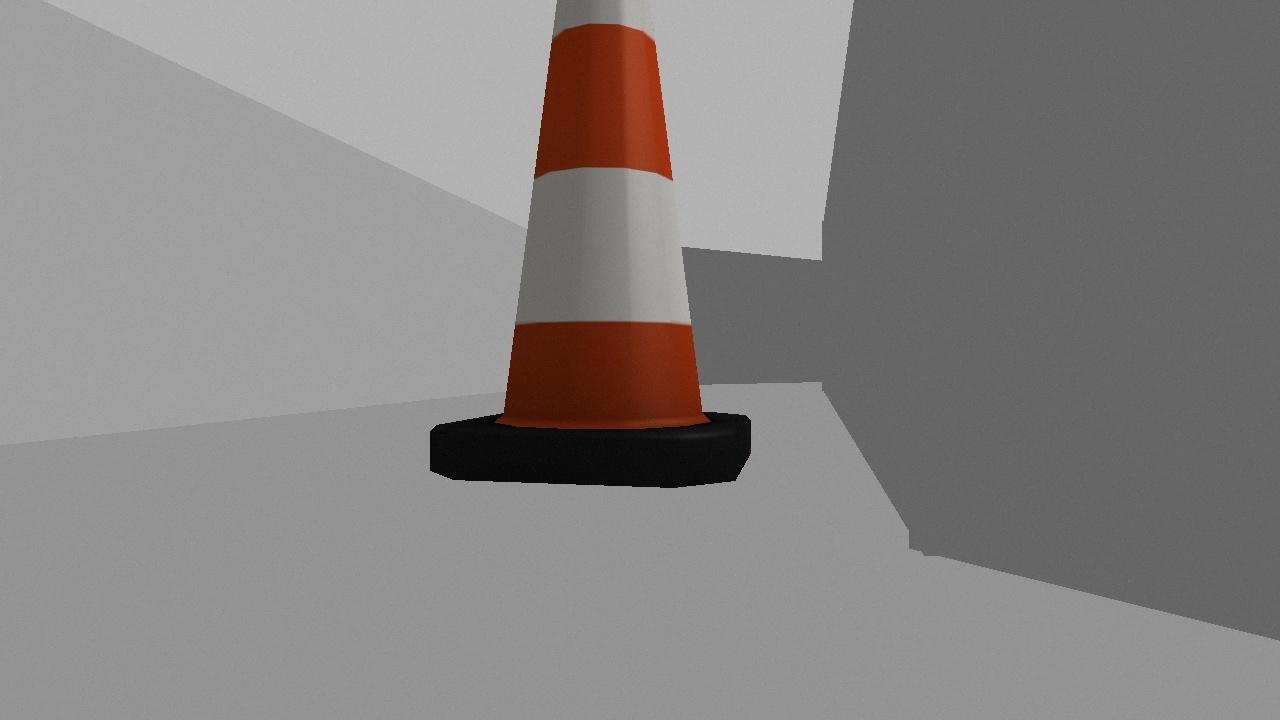cone_barrel: (429, 0, 752, 485)
